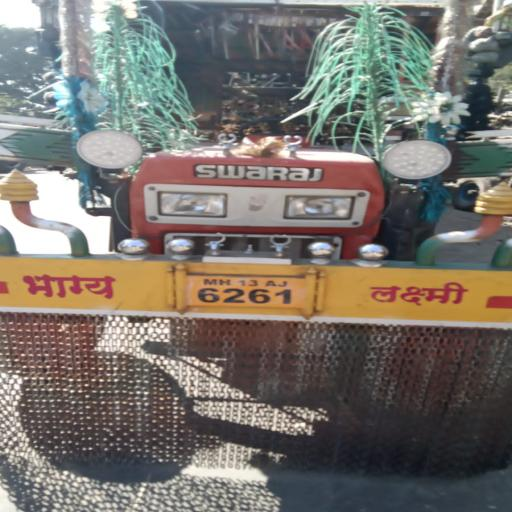number_plate: (157, 261, 335, 320)
